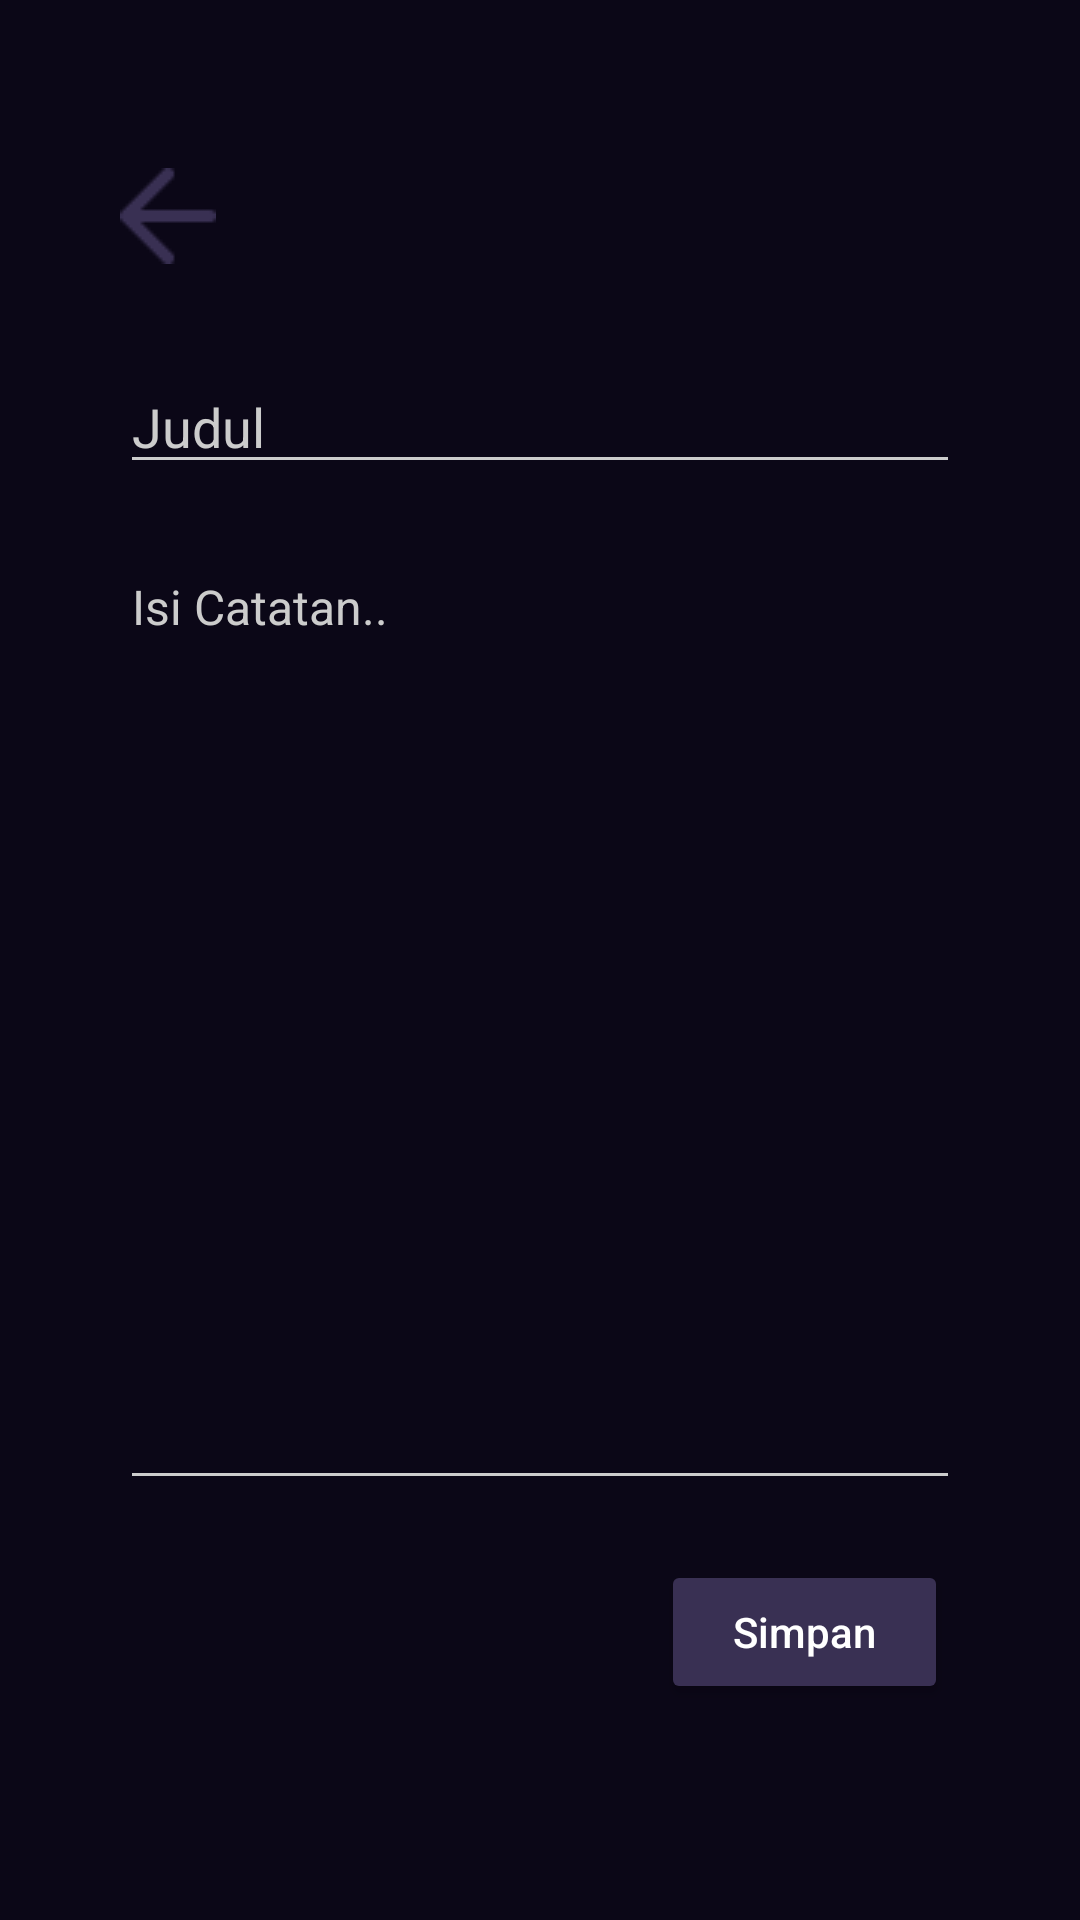

Where icons sit on this 1080×1920 app screen, as (x1, y1, x2, y2):
back: (120, 168, 216, 264)
